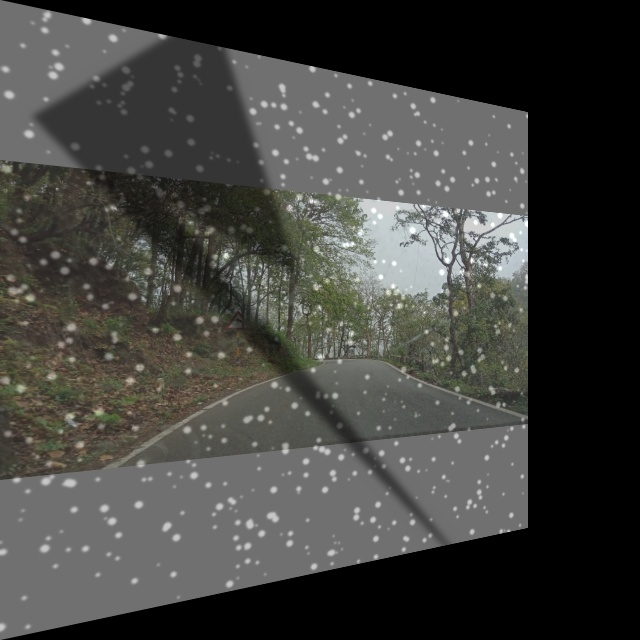Left_Hand_Curve: (226, 308, 248, 334)
